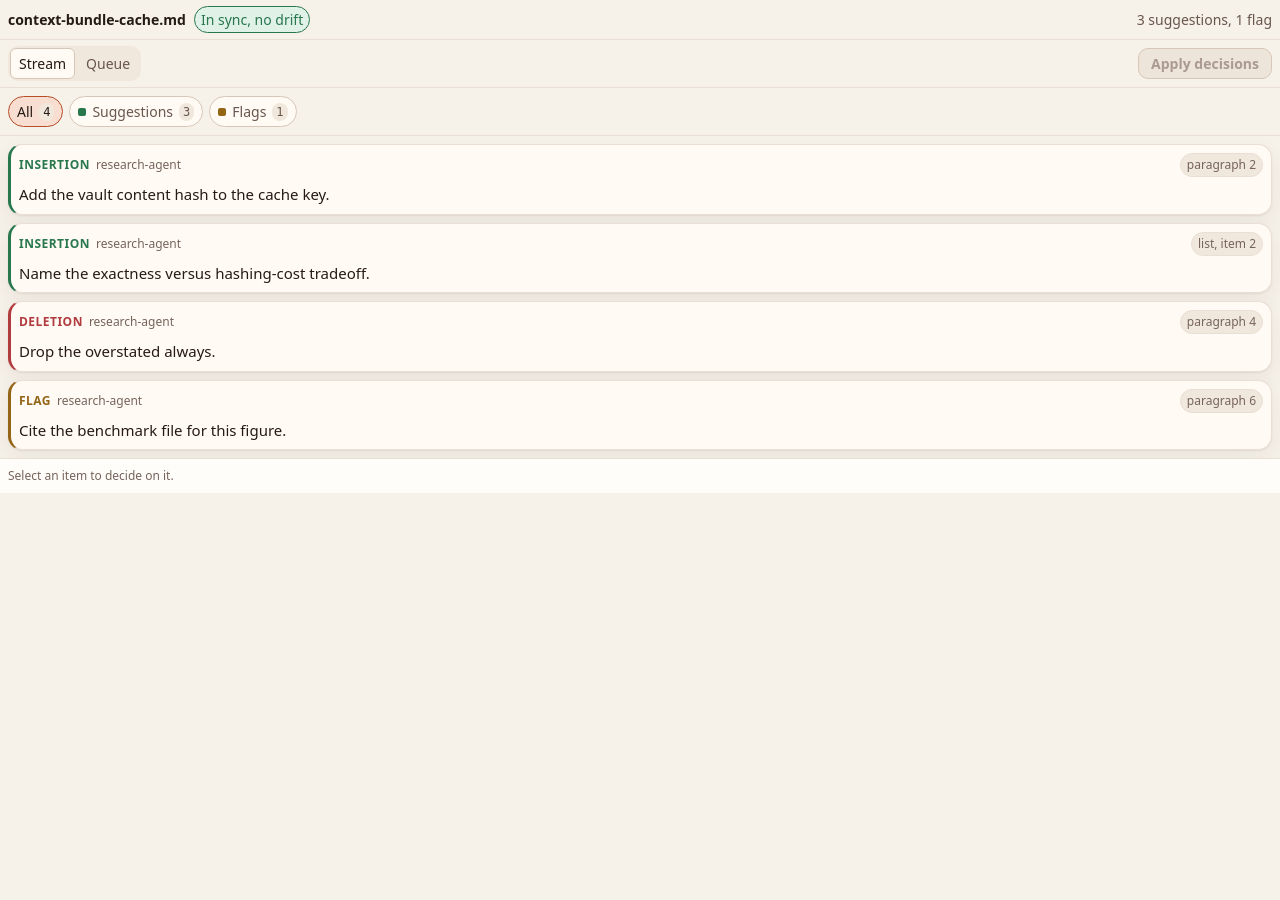
Test case: ReviewPanel › stages a decision, then submits the sitting
Expected: the text "Add the vault content hash to the cache key." is shown, [19, 184, 330, 204]
# Select the first suggestion, then accept it.
Click the button "Add the vault content hash to the cache key.": point(174, 194) [19, 183, 1263, 206]
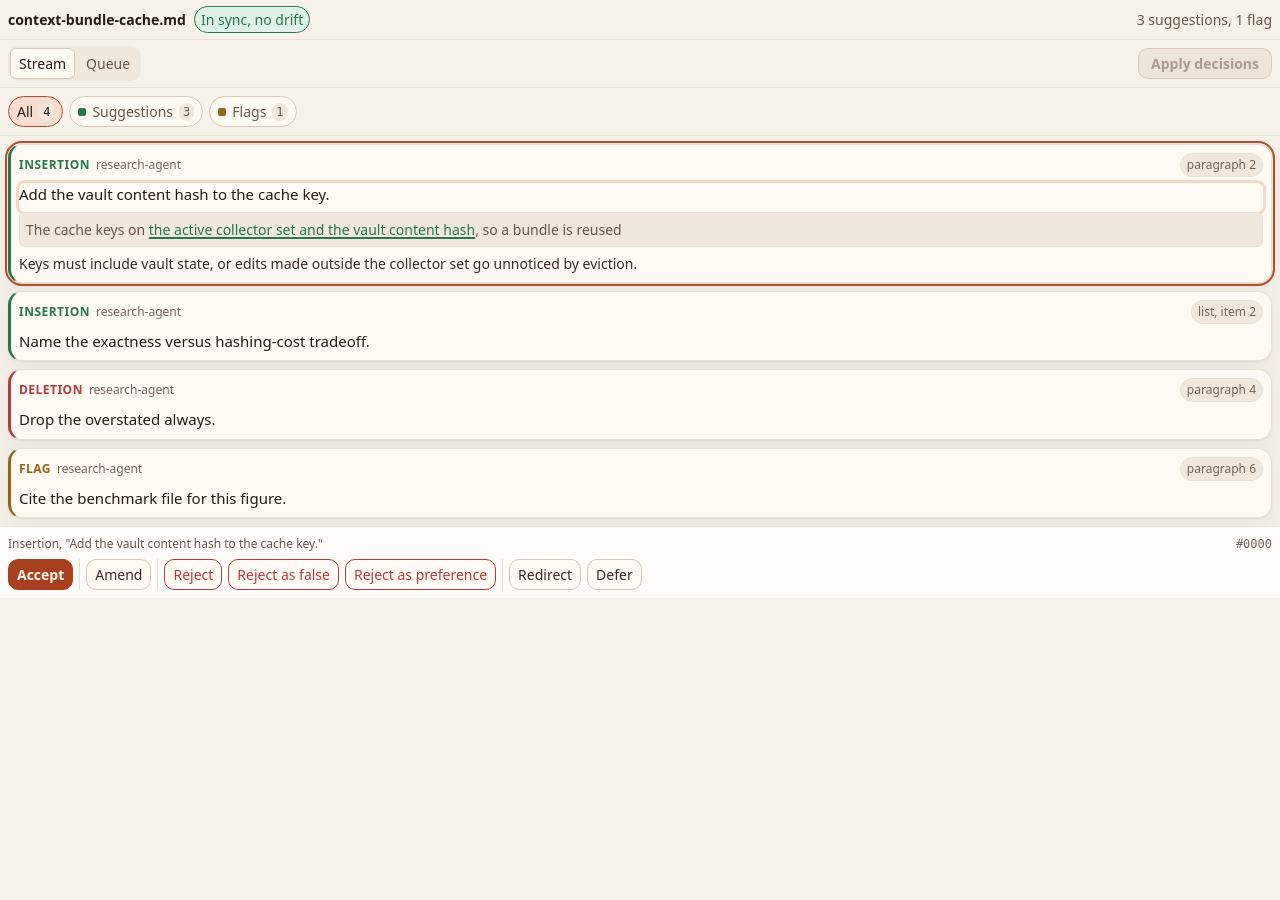
Click the button "Accept": point(41, 574) [8, 559, 73, 590]
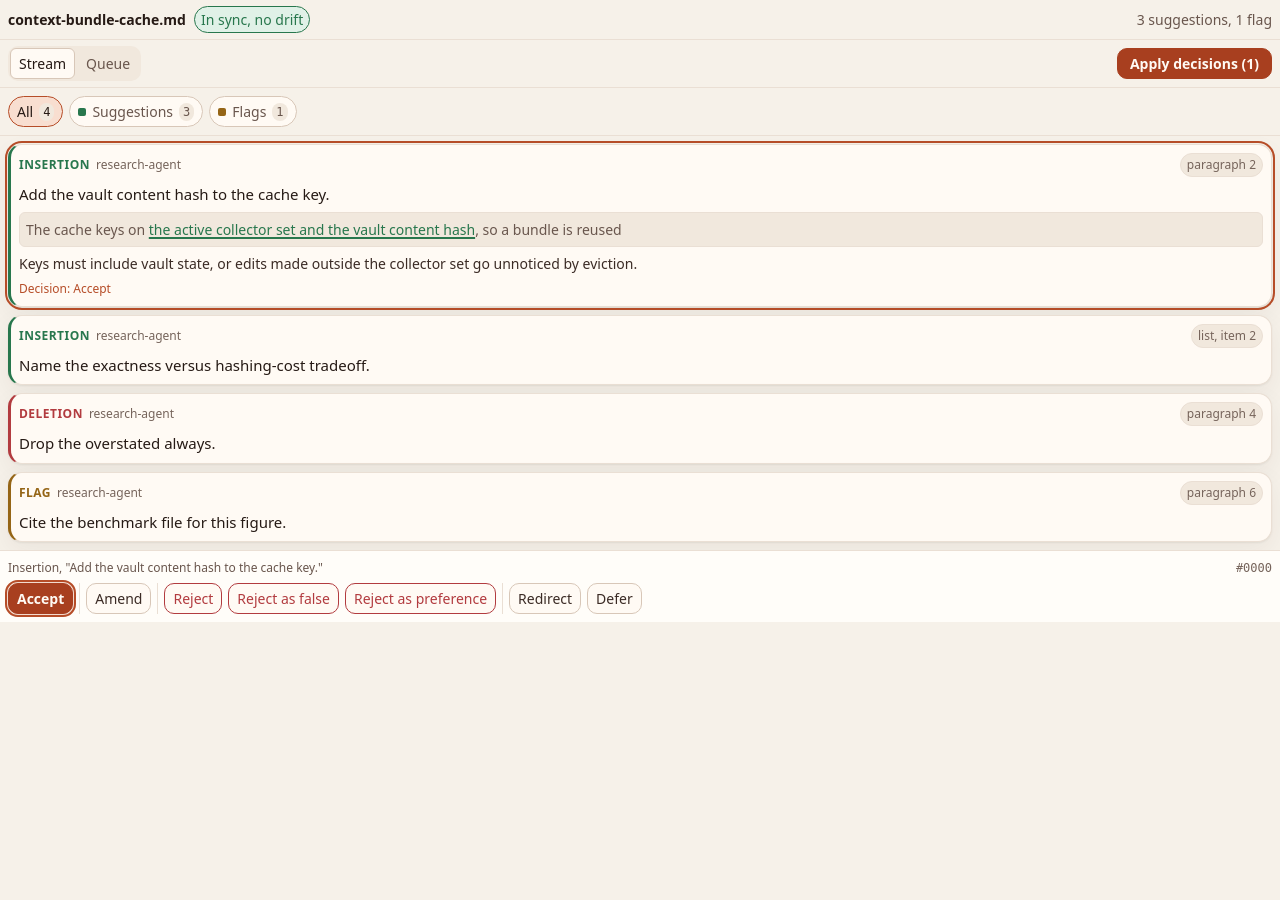
Now the text "Decision: Accept" is shown, box [19, 280, 111, 296]
Now the button "Apply decisions (1)" is shown
Click the button "Apply decisions (1)": point(1194, 64) [1117, 48, 1272, 79]
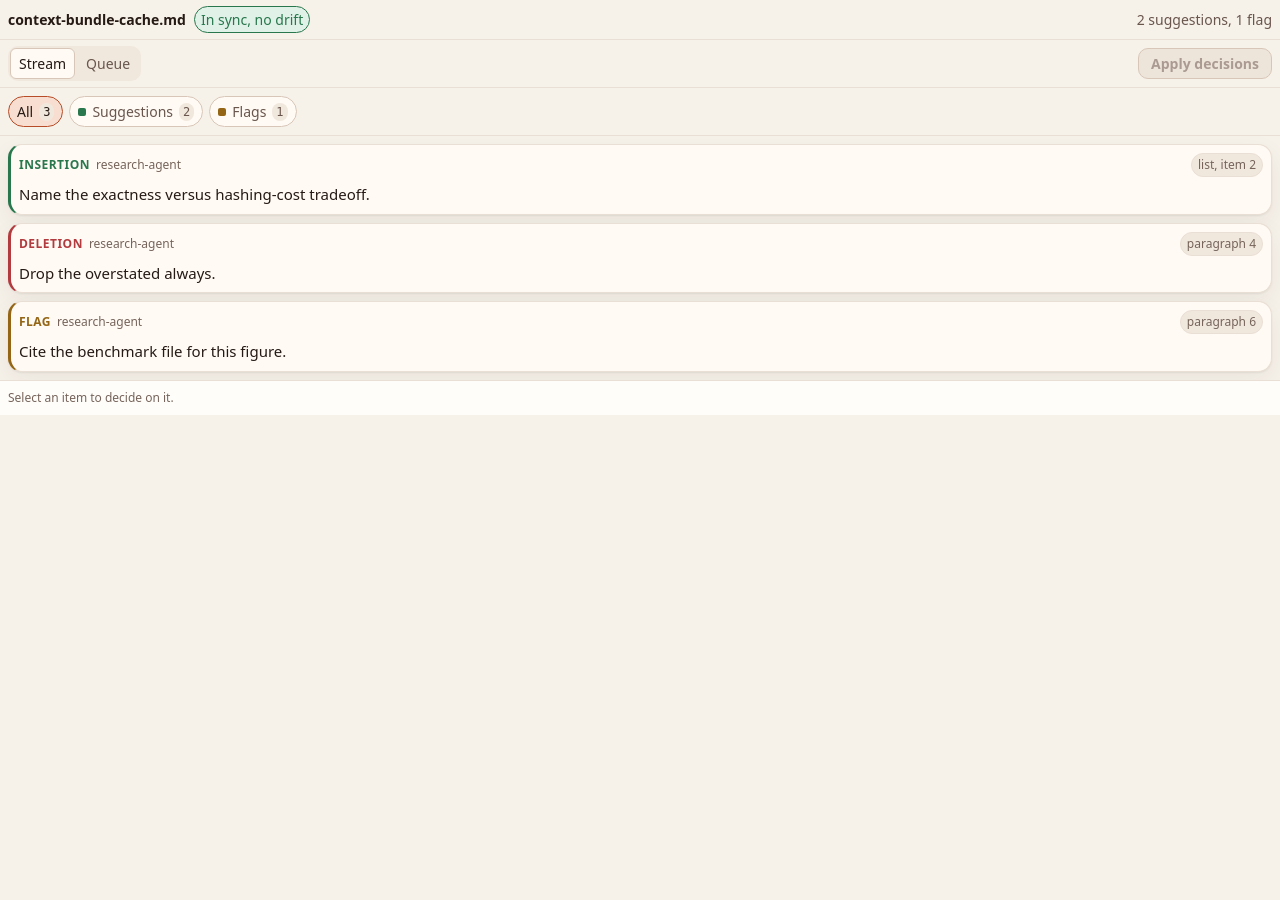
Now the button "Add the vault content hash to the cache key." is gone
Now the button "Apply decisions" is disabled, box [1138, 48, 1272, 79]
